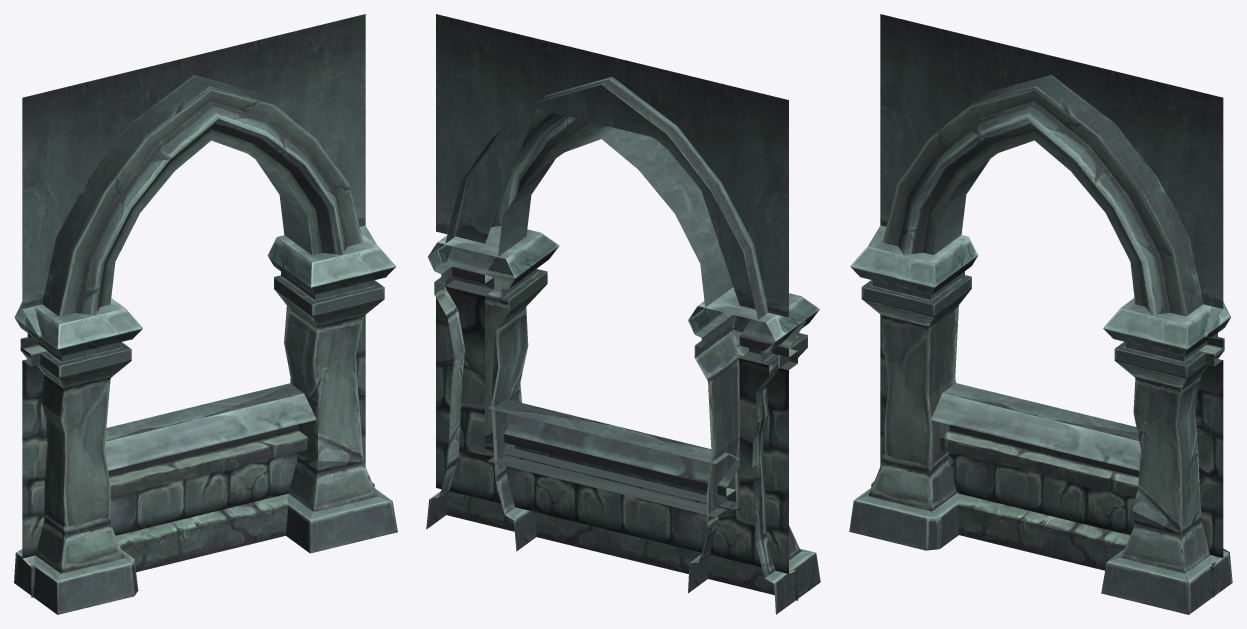
Rendered from crypt_wall_straight_08.fbx.
The picture shows the model from 3 angles, left to right: view 1: azimuth 30°, elevation 25°; view 2: azimuth 150°, elevation 25°; view 3: azimuth 330°, elevation 25°; orthographic projection. The views are drawn at different scales.
Parts seen in each view (by area): view 1: crypt_wall_straight_08-0; view 2: crypt_wall_straight_08-0; view 3: crypt_wall_straight_08-0.
Boxes of the visible parts, box(x1,y1,x2,y2) form: crypt_wall_straight_08-0: box(14, 14, 397, 614); crypt_wall_straight_08-0: box(426, 14, 820, 614); crypt_wall_straight_08-0: box(849, 14, 1232, 614).
Size of the model in its own units: 4 by 5.5 by 0.8857.
